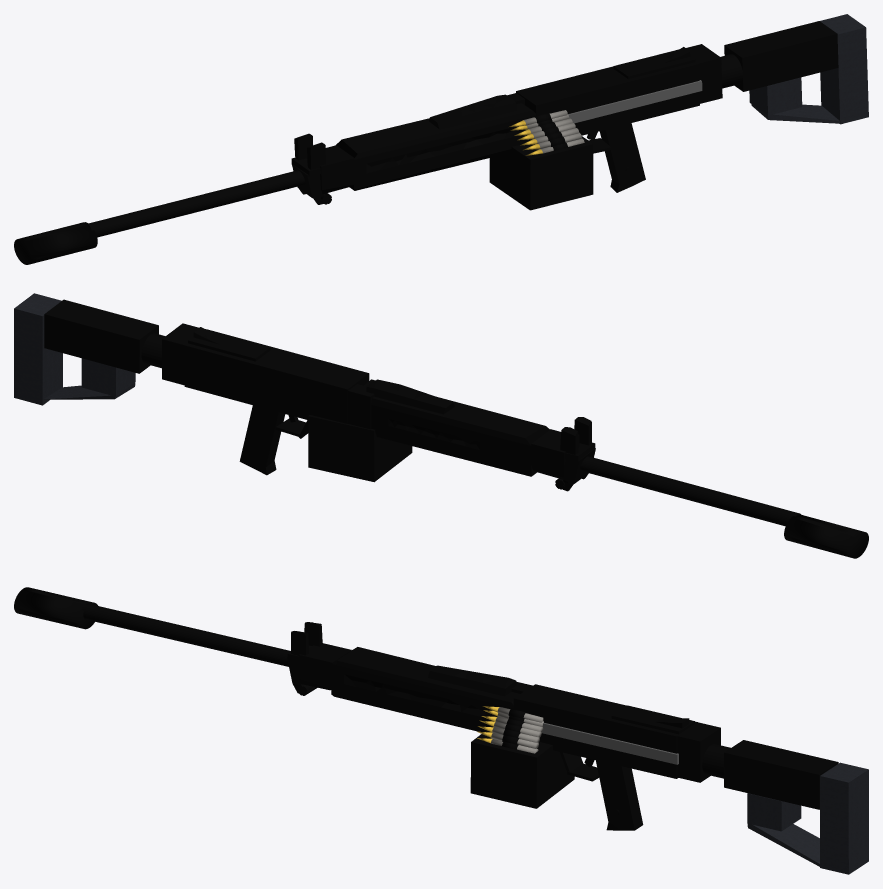
File: gun3.glb
3 renders of one model, top to bottom at view 1: azimuth 30°, elevation 25°; view 2: azimuth 150°, elevation 25°; view 3: azimuth 330°, elevation 25°, orthographic.
Visible parts, largest first — view 1: Cube.030, Cylinder.026; view 2: Cube.030, Cylinder.026; view 3: Cube.030, Cylinder.026.
Boxes of the visible parts, x1,y1,x2,y2 form: Cube.030: (86,14,868,237); Cylinder.026: (14,222,97,264); Cube.030: (14,293,800,526); Cylinder.026: (784,514,868,558); Cube.030: (81,603,868,874); Cylinder.026: (14,587,97,629).
Size of the model in its own units: 28.62 by 4.08 by 2.54.
Materials: 9 (8 with a texture image).
